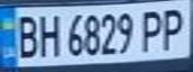2: (100, 10, 121, 56)
6: (63, 10, 84, 57)
8: (81, 10, 103, 56)
9: (115, 9, 139, 55)
B: (9, 11, 42, 60)
H: (33, 10, 63, 58)
P: (157, 3, 190, 52), (136, 7, 169, 53)
